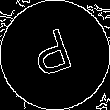P_S: (29, 25, 81, 85)
